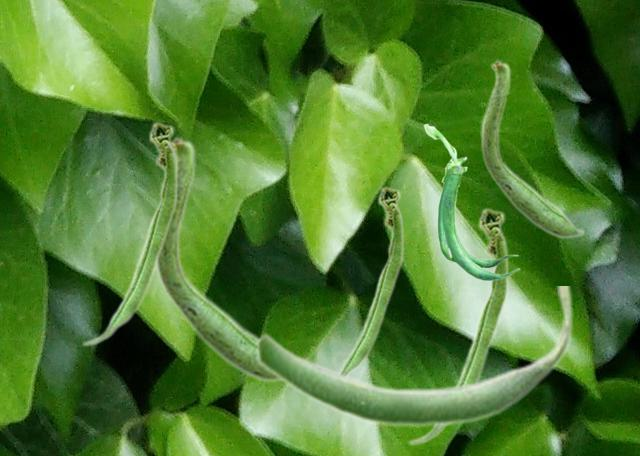french_bean: (255, 286, 573, 428), (153, 134, 279, 382), (407, 206, 508, 445), (81, 120, 177, 346), (480, 58, 584, 238), (423, 123, 519, 280), (339, 185, 403, 375)
